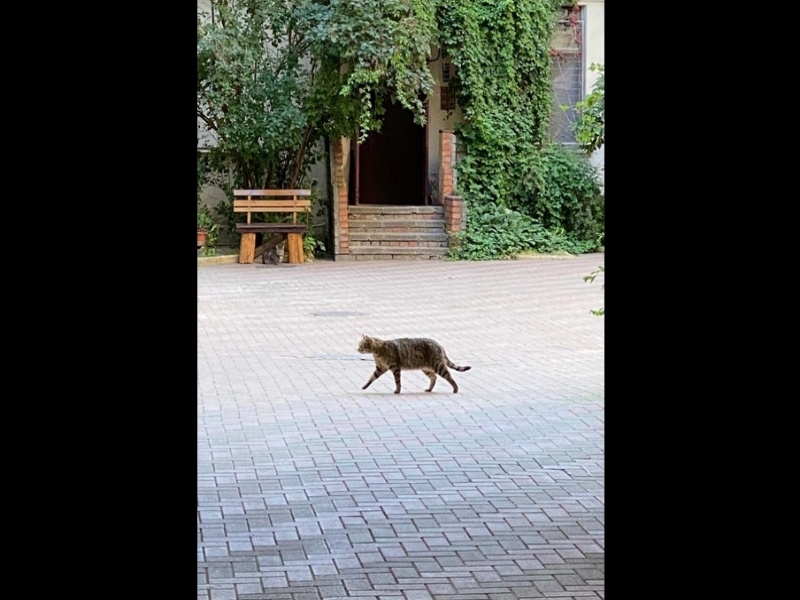cat: (357, 335, 475, 397)
